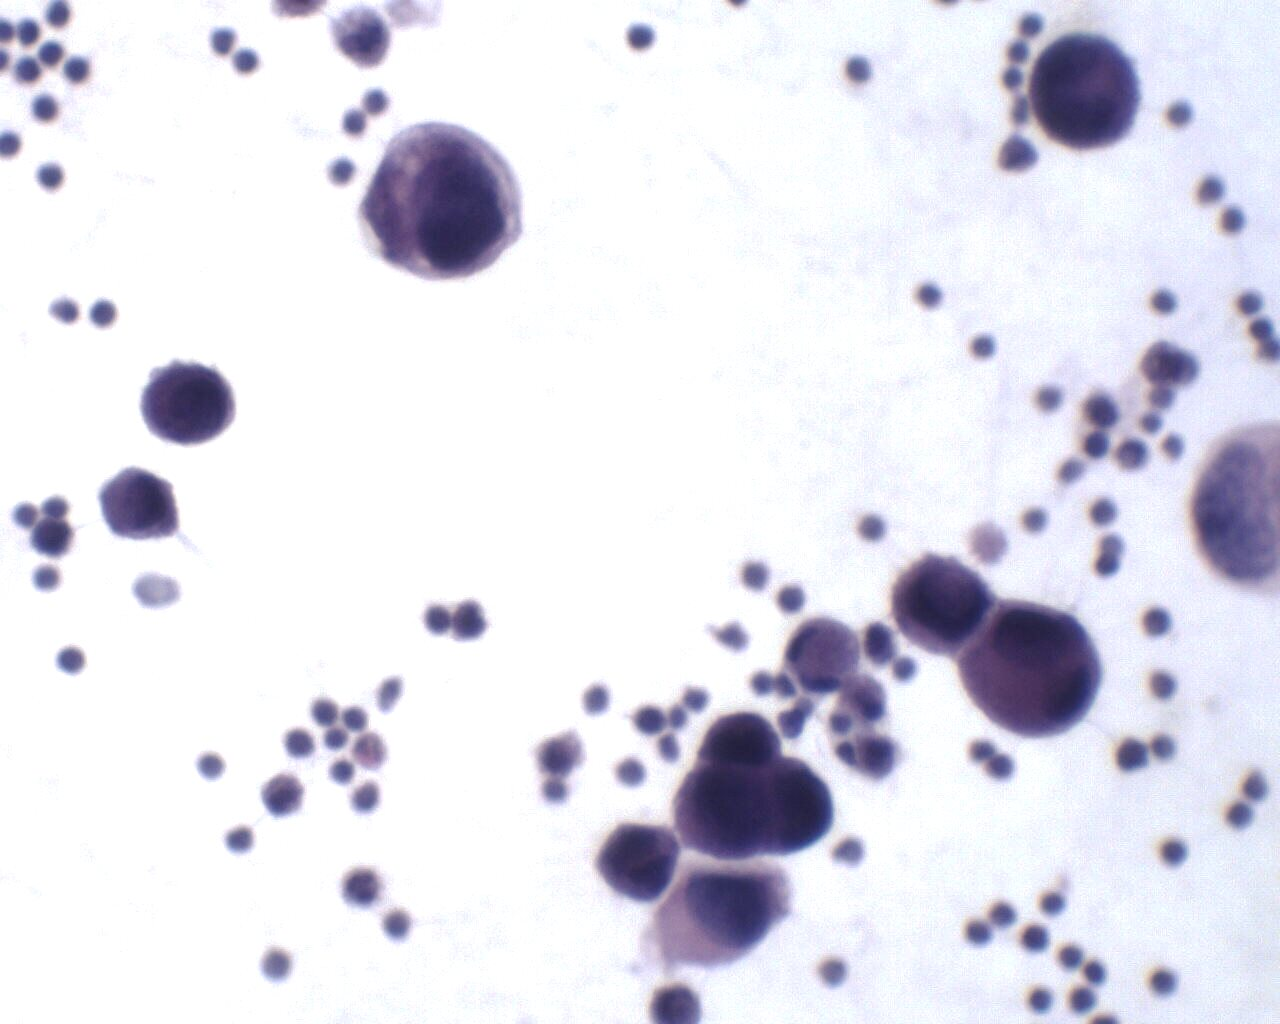ab: (360, 118, 523, 285), (1022, 29, 1150, 156), (885, 554, 995, 658), (667, 763, 771, 866), (138, 358, 240, 451), (591, 824, 684, 902), (96, 469, 180, 545)
lymph: (965, 325, 1009, 371), (1135, 600, 1179, 643), (1151, 827, 1192, 871), (908, 278, 954, 317), (623, 15, 662, 59), (195, 744, 233, 790), (1161, 94, 1203, 134), (1211, 200, 1249, 240), (28, 88, 64, 131), (33, 154, 69, 196), (232, 43, 267, 82), (775, 579, 811, 616), (1142, 281, 1181, 316), (1141, 970, 1176, 1007), (89, 289, 121, 327), (1035, 888, 1073, 918)
